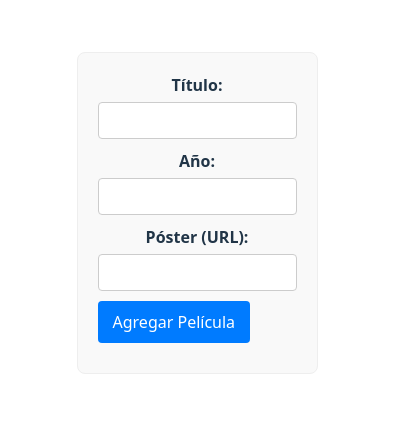
Test case: MovieForm Component › valida el formato del año correctamente
In the field labelled "Título:": (197, 120) x1=98 y1=102 x2=296 y2=139, type "Película Test"
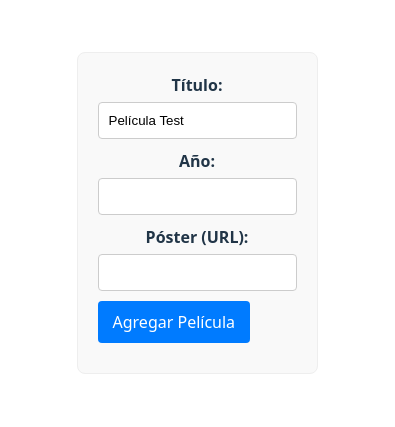
In the field labelled "Año:": (197, 196) x1=98 y1=178 x2=296 y2=215, type "abc"
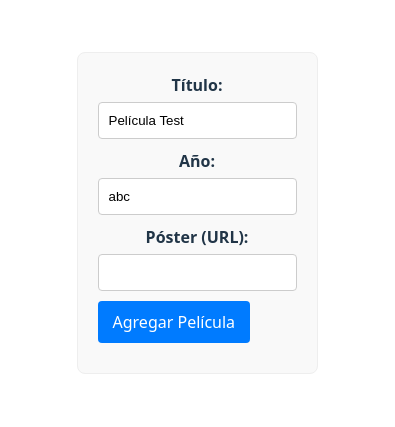
In the field labelled "Póster (URL):": (197, 272) x1=98 y1=254 x2=296 y2=291, type "https://example.com/test.jpg"
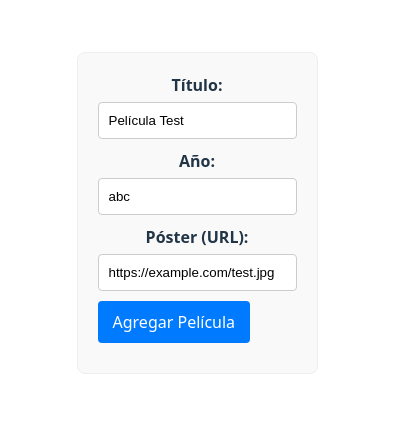
Click the button "Agregar Película": (174, 322) x1=98 y1=301 x2=250 y2=343
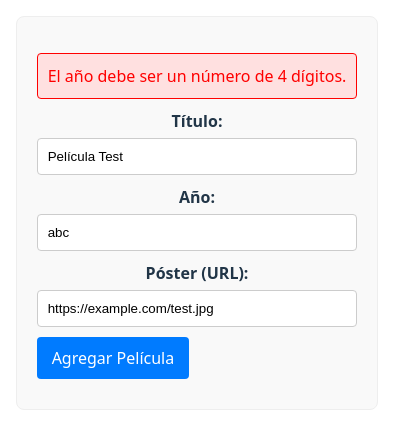
Expected: the text "El año debe ser un número de 4 dígitos." is shown, x1=37 y1=53 x2=357 y2=99
